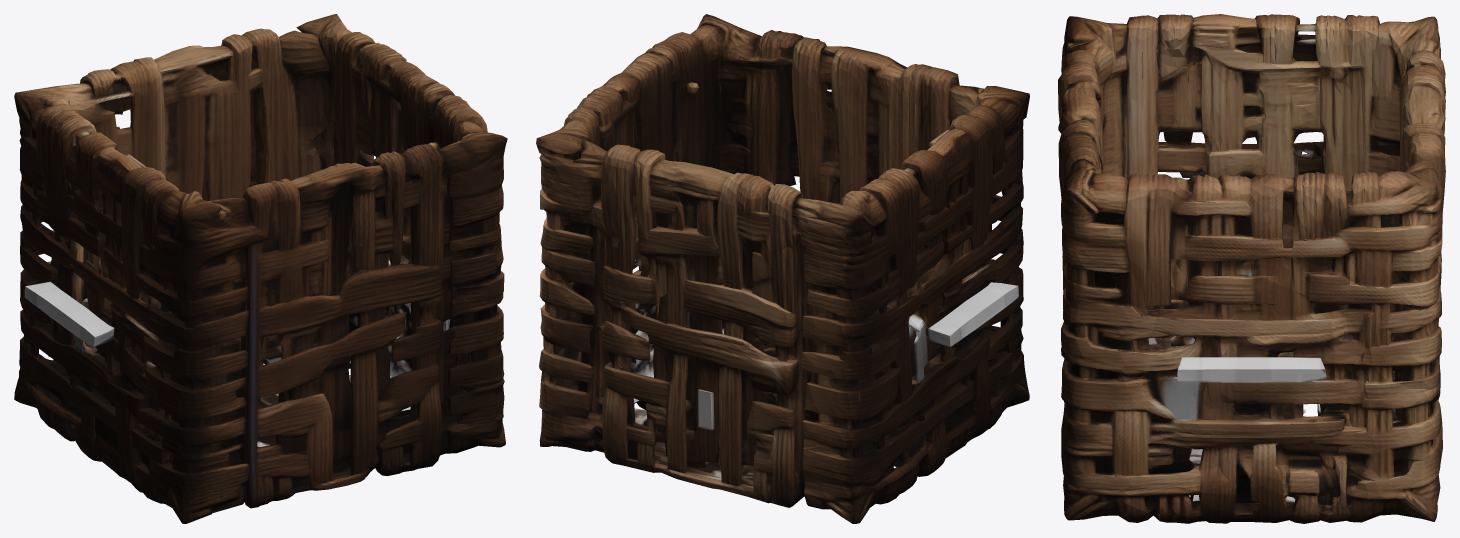
Rendered from woven-rattan-light-switch-cover-3d.jpeg.glb.
The picture shows the model from 3 angles, left to right: view 1: azimuth 30°, elevation 25°; view 2: azimuth 150°, elevation 25°; view 3: azimuth 270°, elevation 25°; orthographic projection. The views are drawn at different scales.
Parts seen in each view (by area): view 1: world; view 2: world; view 3: world.
Boxes of the visible parts, x1,y1,x2,y2 form: world: (14,14,507,523); world: (536,14,1029,523); world: (1058,14,1445,523).
Bounding box in the file's own units: 0.9928 × 0.7488 × 0.7569.
Materials: 1 (1 with a texture image).
